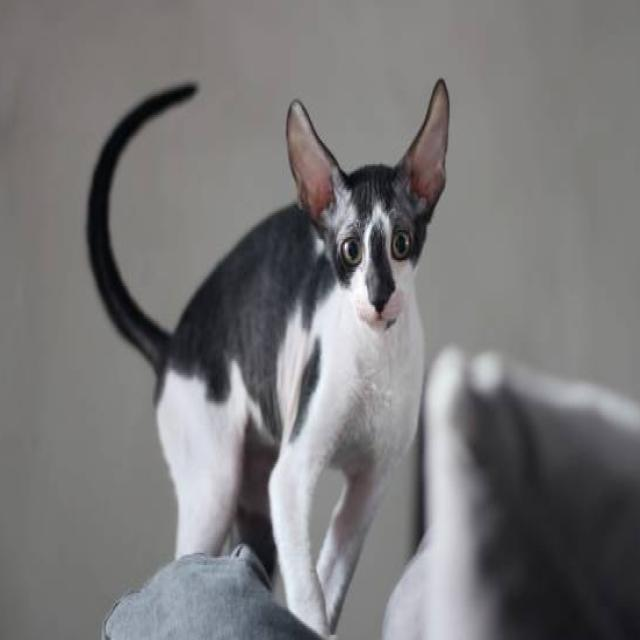Cornish Rex: (80, 70, 455, 640)
